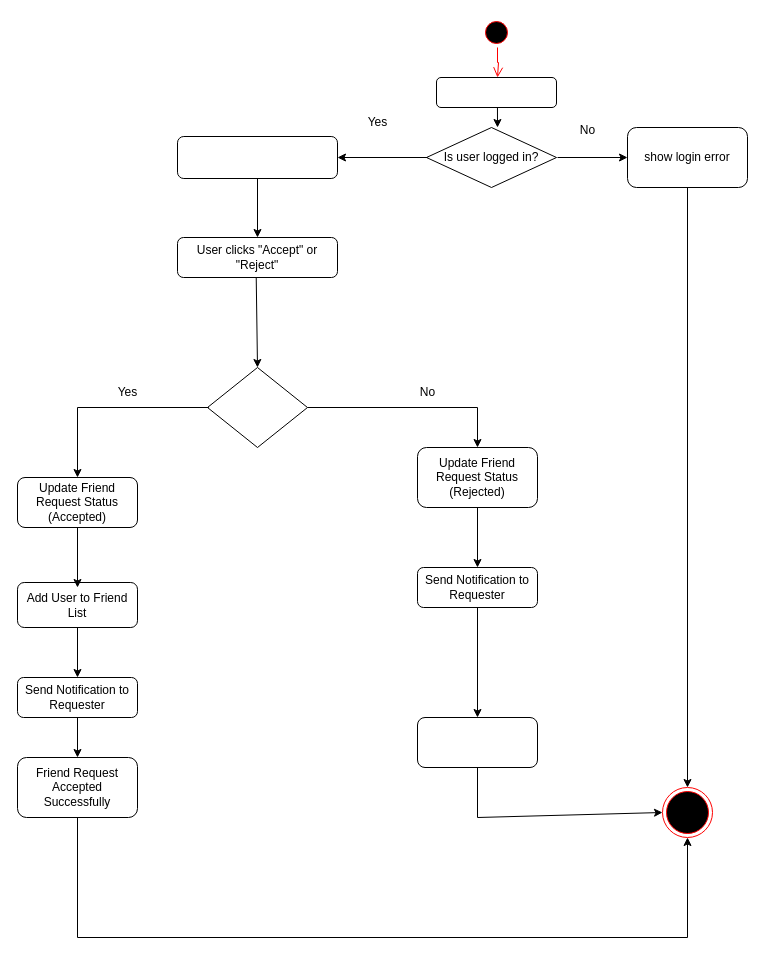
This 765x963 diagram has some shape labels left out. Here are the shapes that lost their labels. From the top down, the centre of each, then its label:
At point 496,92: "Log in to system".
At point 257,157: "Display Friend Requests".
At point 257,407: "Accept Request?".
At point 477,742: "Friend Request Rejected Successfully".
